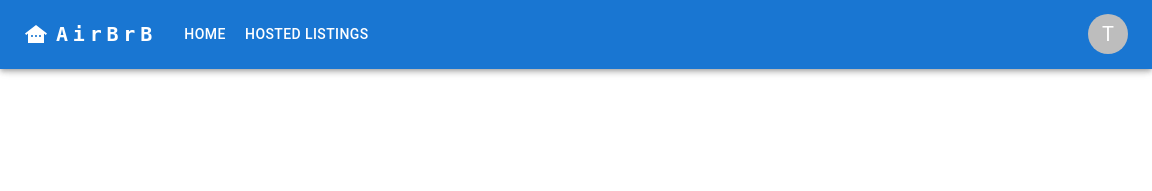
Test: Navbar › render the navbar where the user is not logged in
Expected: the button "Home" is shown, [173,16,237,52]
Note: Simulate a click on the settings button to to open the menu
Step 1. Click the button named "Open Settings" → (1108, 34), box [1088,14,1128,54]
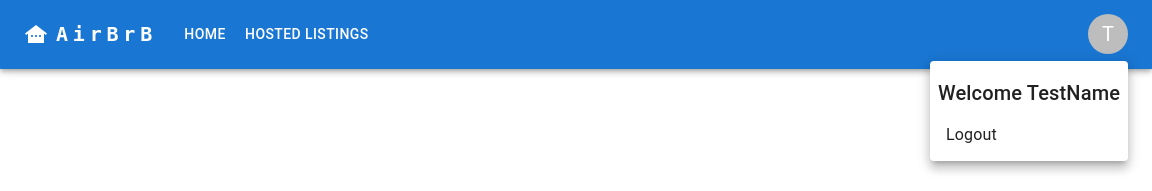
Result: the menu is shown at [930,61,1128,161]
Result: the heading "Welcome TestName" is shown at [938,77,1120,109]
Result: the text "Logout" is shown at [946,123,997,147]
